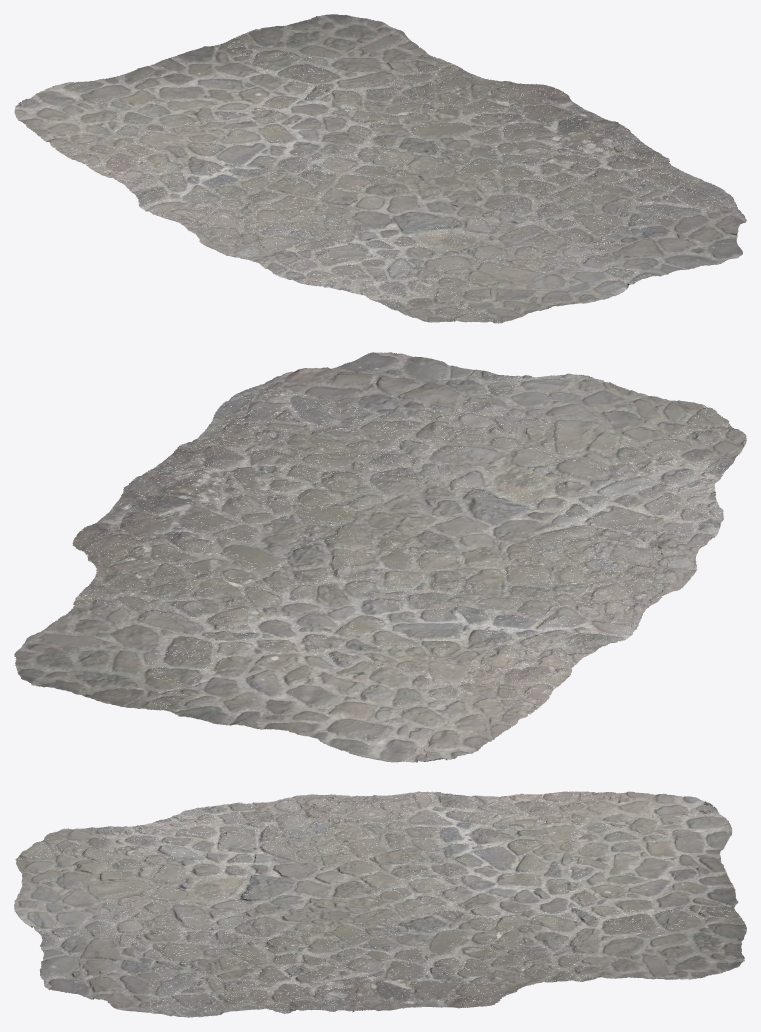
File: castle stone floor.glb
3 views of the same model, one above another, from view 1: azimuth 30°, elevation 25°; view 2: azimuth 150°, elevation 25°; view 3: azimuth 270°, elevation 25° (orthographic). The views are drawn at different scales.
Parts seen in each view (by area): view 1: Object_2, Object_3, Object_5, Object_4, Object_8, Object_7, Object_6, Object_9; view 2: Object_3, Object_2, Object_5, Object_4, Object_7, Object_8, Object_6, Object_9; view 3: Object_3, Object_2, Object_5, Object_4, Object_8, Object_7, Object_6, Object_9.
Part boxes in pixels (left/top/right/bottom): Object_2: left=111, top=109, right=578, bottom=273; Object_3: left=101, top=60, right=697, bottom=224; Object_5: left=67, top=41, right=735, bottom=267; Object_4: left=58, top=62, right=606, bottom=298; Object_8: left=200, top=64, right=699, bottom=323; Object_7: left=196, top=14, right=449, bottom=287; Object_6: left=14, top=82, right=705, bottom=307; Object_9: left=176, top=68, right=746, bottom=323; Object_3: left=72, top=396, right=564, bottom=699; Object_2: left=273, top=413, right=640, bottom=671; Object_5: left=142, top=385, right=658, bottom=754; Object_4: left=73, top=427, right=680, bottom=711; Object_7: left=14, top=472, right=723, bottom=710; Object_8: left=90, top=373, right=733, bottom=635; Object_6: left=130, top=405, right=729, bottom=762; Object_9: left=217, top=352, right=746, bottom=747; Object_3: left=150, top=796, right=612, bottom=1011; Object_2: left=99, top=795, right=578, bottom=949; Object_5: left=99, top=791, right=738, bottom=1017; Object_4: left=99, top=791, right=593, bottom=1010; Object_8: left=14, top=794, right=587, bottom=1012; Object_7: left=150, top=794, right=746, bottom=980; Object_6: left=99, top=791, right=732, bottom=1015; Object_9: left=18, top=821, right=722, bottom=1017.
Bounding box in the file's own units: 39.09 × 0.9991 × 54.44.
Materials: 1 (1 with a texture image).
